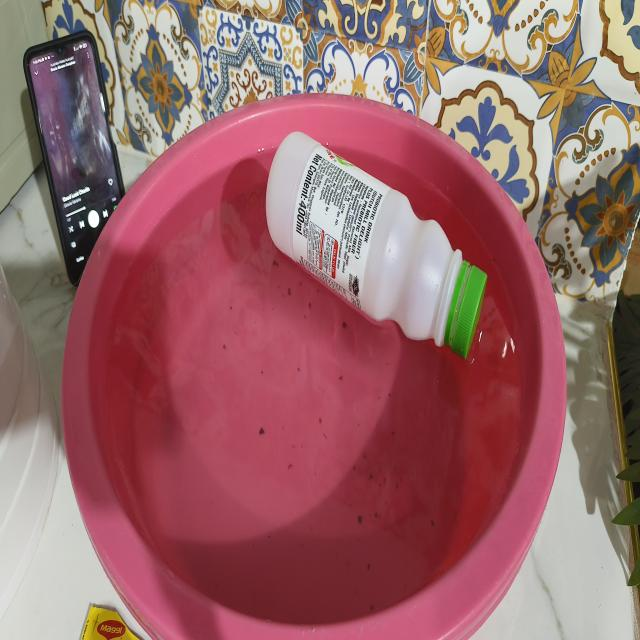Plastic Bottle: (256, 83, 506, 386)
